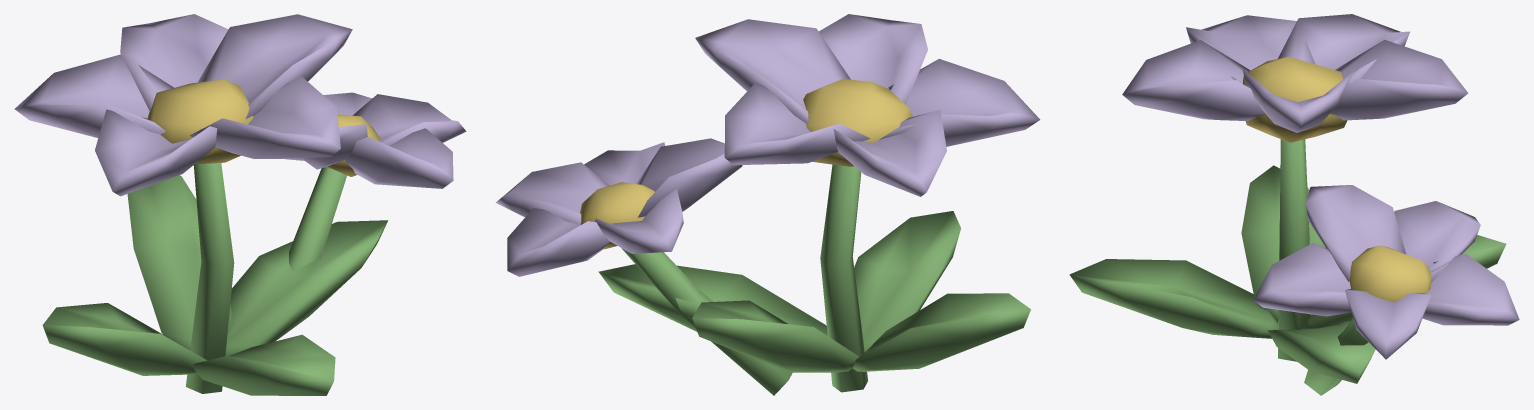
File: flower_lilac.glb
3 renders of one model, left to right at view 1: azimuth 30°, elevation 25°; view 2: azimuth 150°, elevation 25°; view 3: azimuth 270°, elevation 25°, orthographic. The views are drawn at different scales.
Visible parts, largest first — view 1: flower_lilac; view 2: flower_lilac; view 3: flower_lilac.
Boxes of the visible parts, bbox=[...] form: flower_lilac: bbox=[14, 14, 466, 395]; flower_lilac: bbox=[495, 14, 1040, 395]; flower_lilac: bbox=[1069, 14, 1519, 395].
Size of the model in its own units: 0.3469 by 0.2358 by 0.2922.
